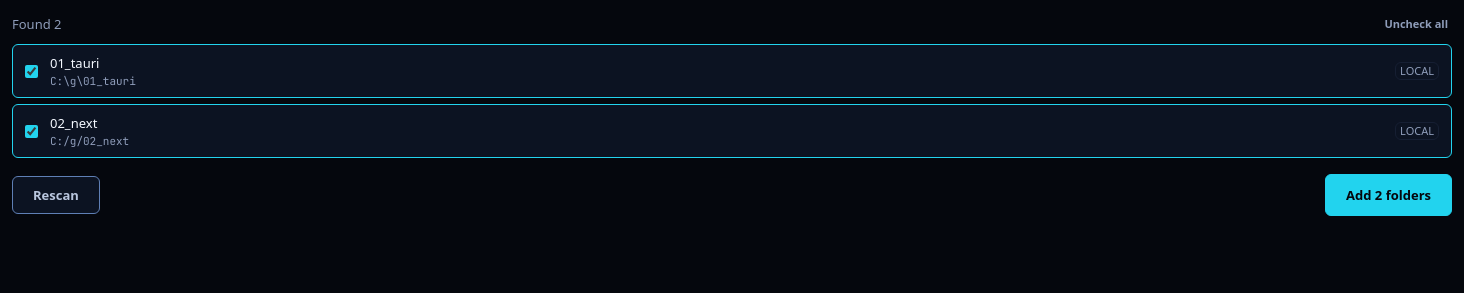
Scenario: ScanPicker — the scan is the mount, and it runs once › asks again on Rescan and takes the new answer as the whole truth
The image size is (1464, 293).
Expected: the text "Found 2" is shown, [12, 14, 62, 34]
Click the checkbox labelled "02_next C:/g/02_next LOCAL" at (32, 131), box [25, 124, 38, 138]
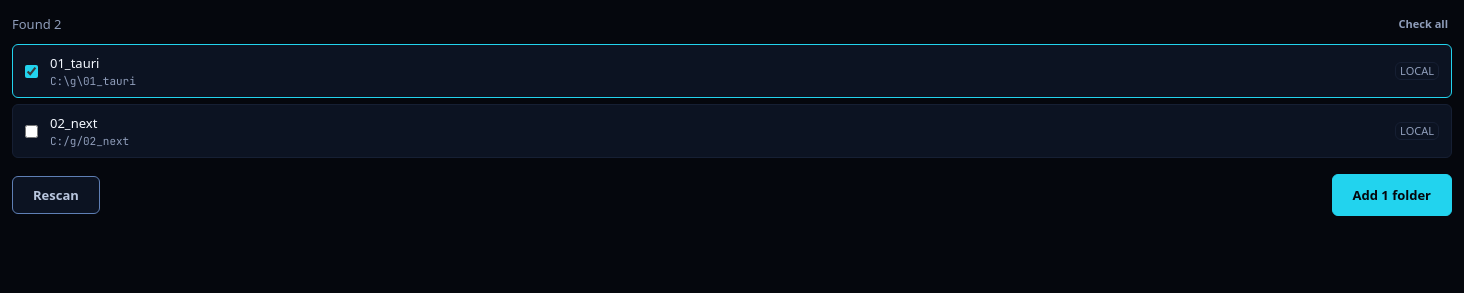
Now the button "Add 1 folder" is shown, box [1332, 174, 1452, 216]
Click the button "Rescan" at (56, 195), box [12, 176, 100, 214]
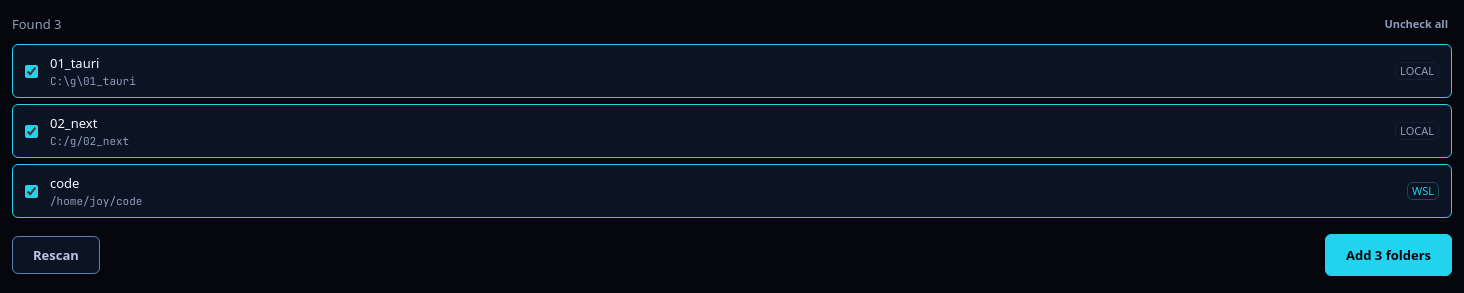
Expected: the checkbox labelled "02_next C:/g/02_next LOCAL" is checked, [25, 124, 38, 138]
Now the text "Found 3" is shown, box [12, 14, 62, 34]
Now the button "Add 3 folders" is shown, box [1325, 234, 1452, 276]
